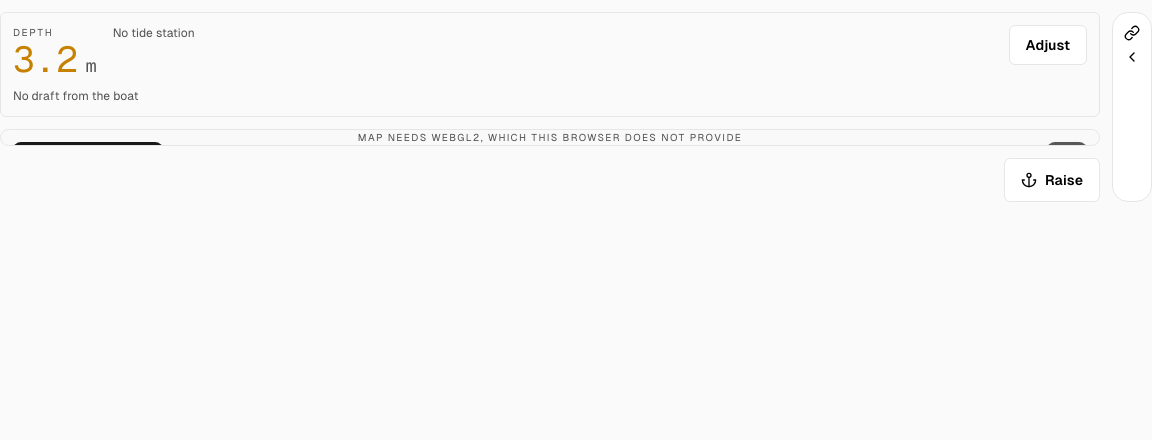
Test case: AnchorWatchDrawer Adjust mode — radius toolbar and disabled reasons › disables − at the minimum radius, with a reason surfaced as visible text
Click the button "Adjust" at (1048, 45), box [1009,25,1087,65]
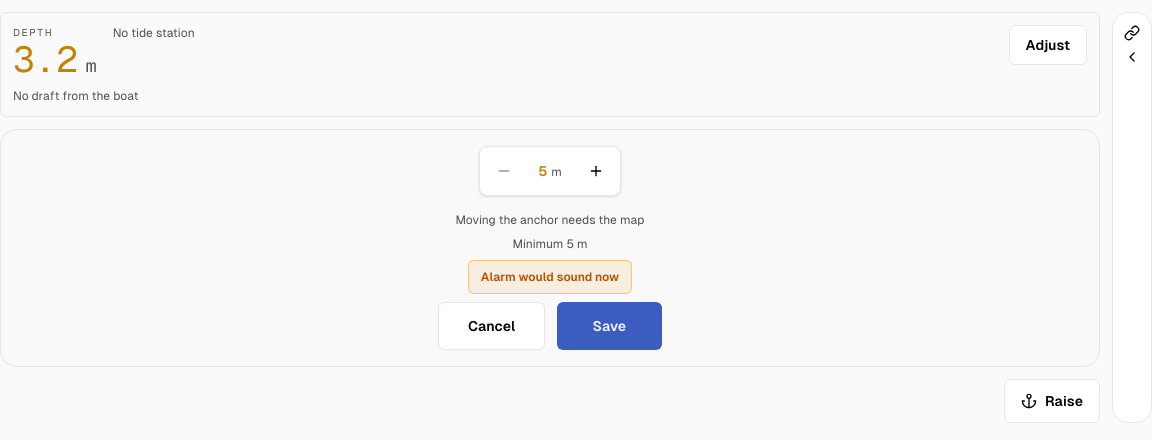
Expected: the button named "Decrease radius" is disabled, [484,151,524,191]
Result: the text with test id "anchor-adjust-reasons" reads "Minimum 5 m" at [512,237,587,251]
